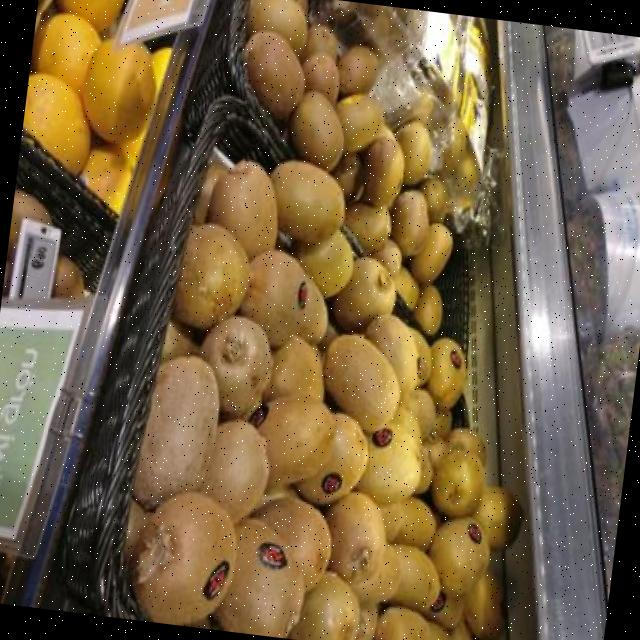kiwi: (130, 491, 235, 624), (132, 354, 217, 507), (213, 519, 303, 638), (176, 225, 249, 328), (251, 397, 333, 488), (323, 333, 398, 432), (199, 316, 272, 416), (254, 497, 330, 590), (199, 420, 266, 523), (239, 250, 308, 347), (208, 161, 274, 259), (296, 412, 365, 504), (269, 160, 342, 242), (325, 491, 384, 584), (243, 30, 303, 118), (356, 422, 419, 505), (331, 256, 395, 332), (289, 571, 359, 640), (429, 517, 488, 596), (365, 313, 416, 397), (289, 93, 342, 171), (263, 335, 322, 402), (296, 228, 352, 297), (430, 449, 484, 516), (389, 546, 439, 612), (247, 0, 306, 55), (474, 485, 522, 549), (351, 545, 400, 604), (336, 93, 383, 153), (363, 137, 404, 205), (463, 572, 504, 640), (425, 337, 464, 407), (409, 223, 452, 285), (390, 191, 428, 256), (391, 496, 435, 549), (191, 162, 228, 223), (343, 206, 390, 252), (395, 120, 430, 181), (296, 275, 325, 344), (338, 45, 377, 96), (302, 51, 339, 103), (373, 606, 428, 640), (122, 500, 150, 562), (401, 389, 435, 438), (161, 320, 198, 363), (424, 592, 464, 629), (413, 285, 442, 335), (330, 155, 361, 200), (300, 24, 337, 61), (448, 427, 484, 465), (419, 177, 447, 223), (409, 328, 431, 386), (370, 238, 400, 279), (392, 405, 419, 446), (394, 267, 418, 310), (378, 505, 404, 542), (352, 604, 377, 640), (413, 445, 431, 491), (424, 437, 447, 466), (318, 321, 337, 351), (431, 410, 450, 437), (427, 623, 452, 640), (449, 621, 471, 640)
